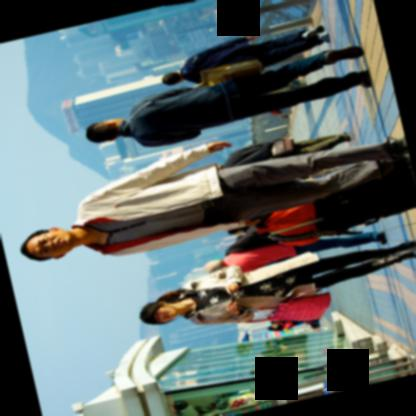backpack: (255, 204, 318, 235), (278, 320, 293, 330)
handbag: (245, 287, 331, 322), (271, 136, 297, 155)
suitcase: (315, 163, 416, 236)
